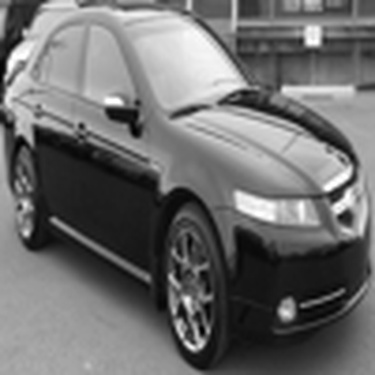car: (4, 2, 370, 371), (4, 1, 89, 92)
